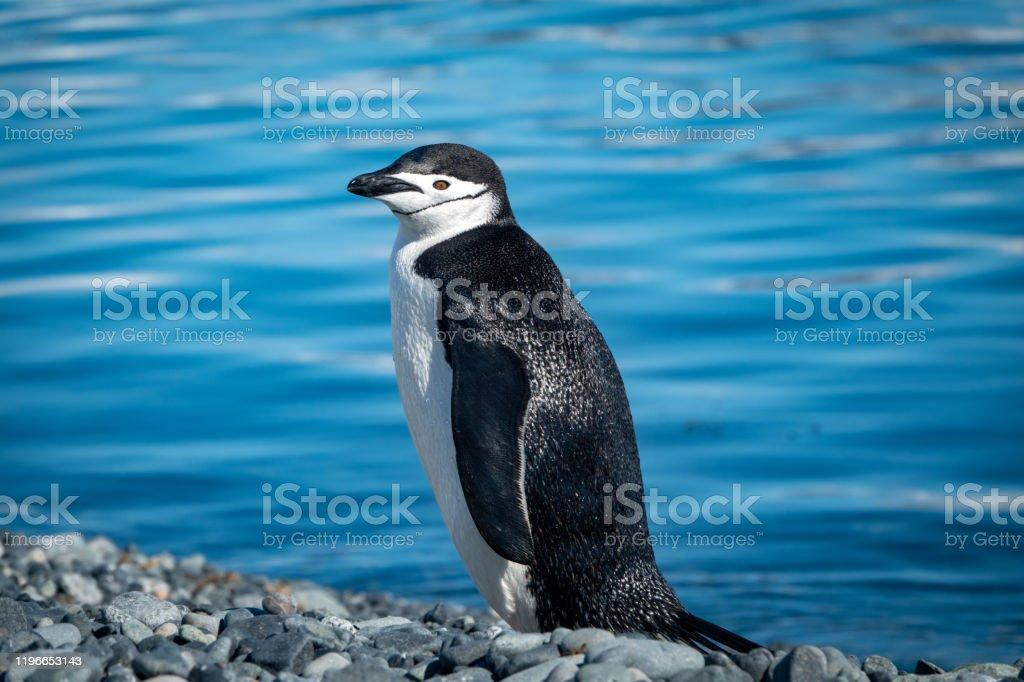chinstrap: (308, 132, 751, 662)
